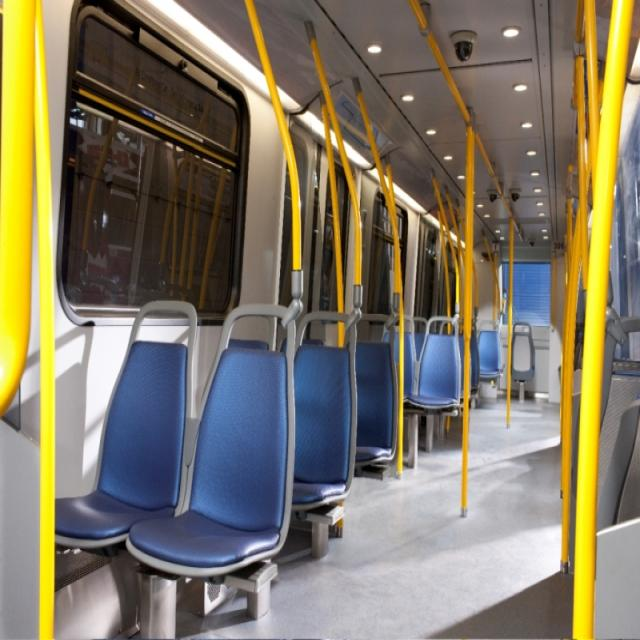empty-seat-frontal: (126, 299, 298, 578), (39, 292, 200, 548), (406, 315, 464, 414)
